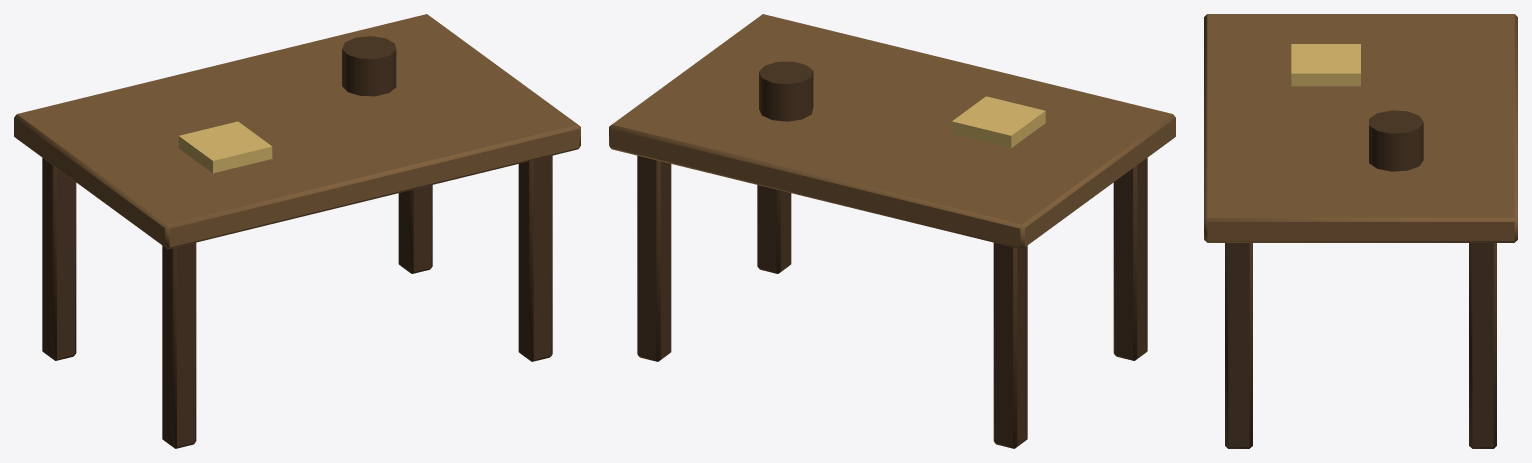
Rendered from table.glb.
The picture shows the model from 3 angles, left to right: view 1: azimuth 30°, elevation 25°; view 2: azimuth 150°, elevation 25°; view 3: azimuth 270°, elevation 25°; orthographic projection.
Parts seen in each view (by area): view 1: building; view 2: building; view 3: building.
Boxes of the visible parts, box(x1,y1,x2,y2) form: building: box(14, 14, 580, 448); building: box(609, 14, 1175, 448); building: box(1204, 14, 1517, 448).
Size of the model in its own units: 1.4 by 0.88 by 0.9.
